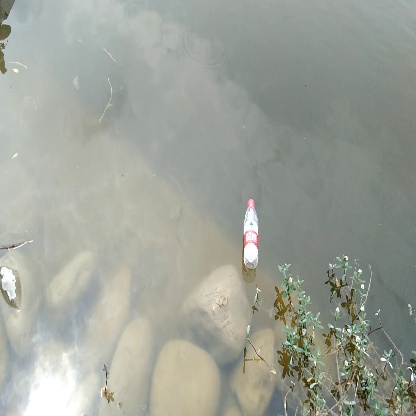bottle: (241, 199, 262, 270)
